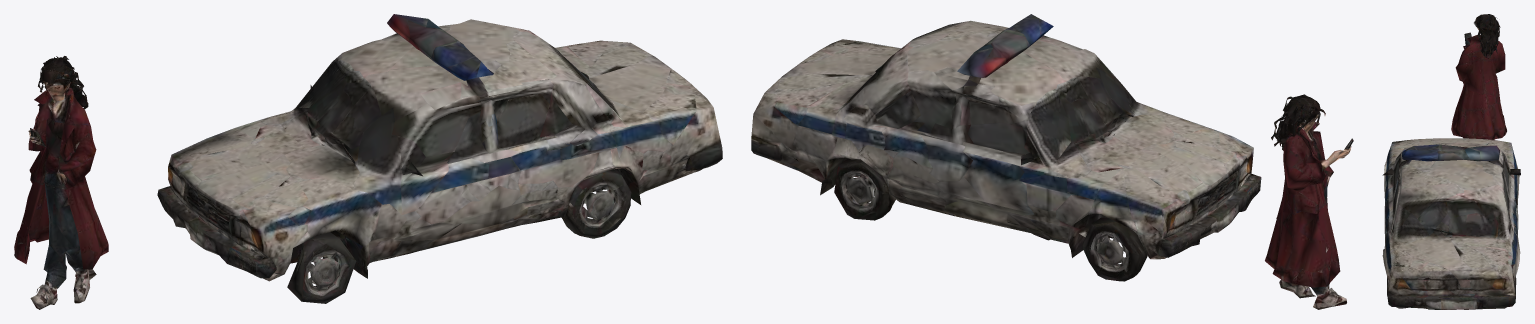
The model's file is post3.glb.
3 views of the same model, side by side, from view 1: azimuth 30°, elevation 25°; view 2: azimuth 150°, elevation 25°; view 3: azimuth 270°, elevation 25° (orthographic). The views are drawn at different scales.
Bounding box in the file's own units: 189 × 67.18 × 58.18.
1 material, 1 textured.
